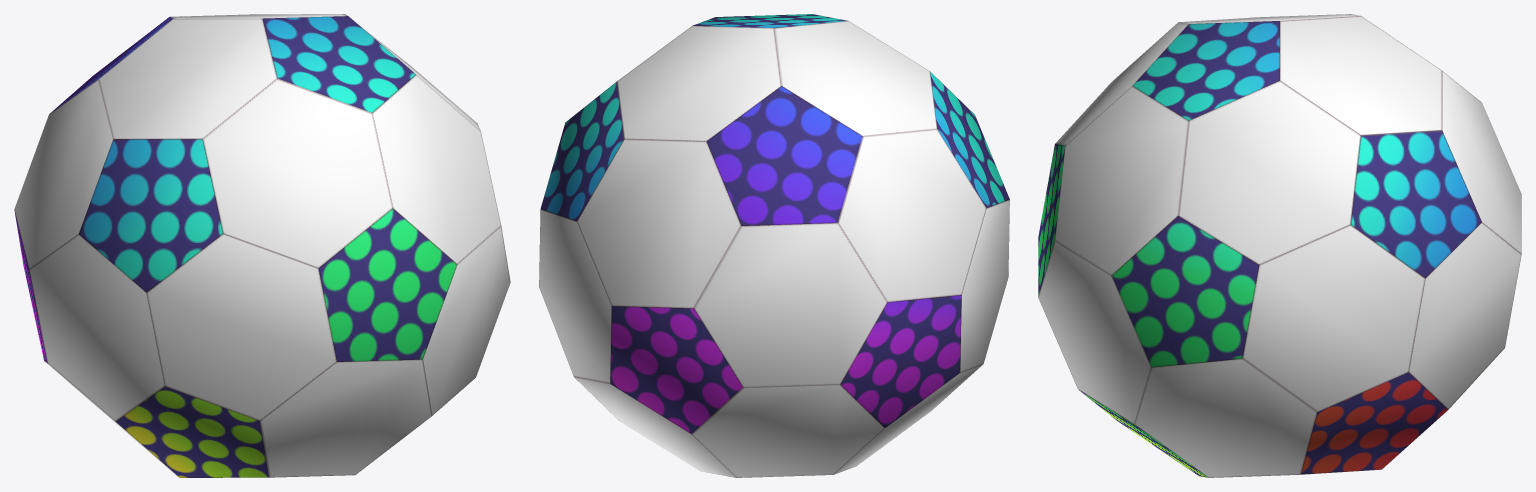
Rendered from soccerball.fbx.
3 views of the same model, side by side, from view 1: azimuth 30°, elevation 25°; view 2: azimuth 150°, elevation 25°; view 3: azimuth 270°, elevation 25° (orthographic). The views are drawn at different scales.
Visible parts, largest first — view 1: sakkabo_ru; view 2: sakkabo_ru; view 3: sakkabo_ru.
Boxes of the visible parts, <box> form: sakkabo_ru: <box>14,14,510,477</box>; sakkabo_ru: <box>539,14,1009,477</box>; sakkabo_ru: <box>1038,14,1521,477</box>.
Bounding box in the file's own units: 1.21 × 1.23 × 1.2.
1 material, 1 textured.
